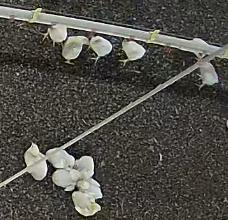chick: (24, 142, 47, 181), (196, 56, 219, 91), (61, 35, 88, 64), (71, 190, 101, 216), (118, 40, 145, 65), (89, 35, 112, 64), (52, 168, 80, 191), (45, 148, 74, 170), (44, 23, 67, 46), (77, 179, 103, 198), (77, 157, 95, 177)
